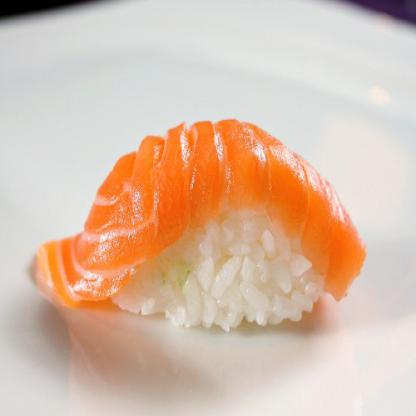sake: (16, 107, 373, 350)
